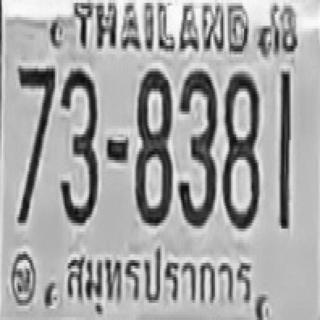N01: (278, 68, 291, 228)
N03: (177, 69, 216, 226), (58, 66, 97, 223)
N07: (15, 64, 54, 221)
N08: (221, 68, 259, 228), (134, 67, 171, 224)
P57: (61, 239, 254, 312)
